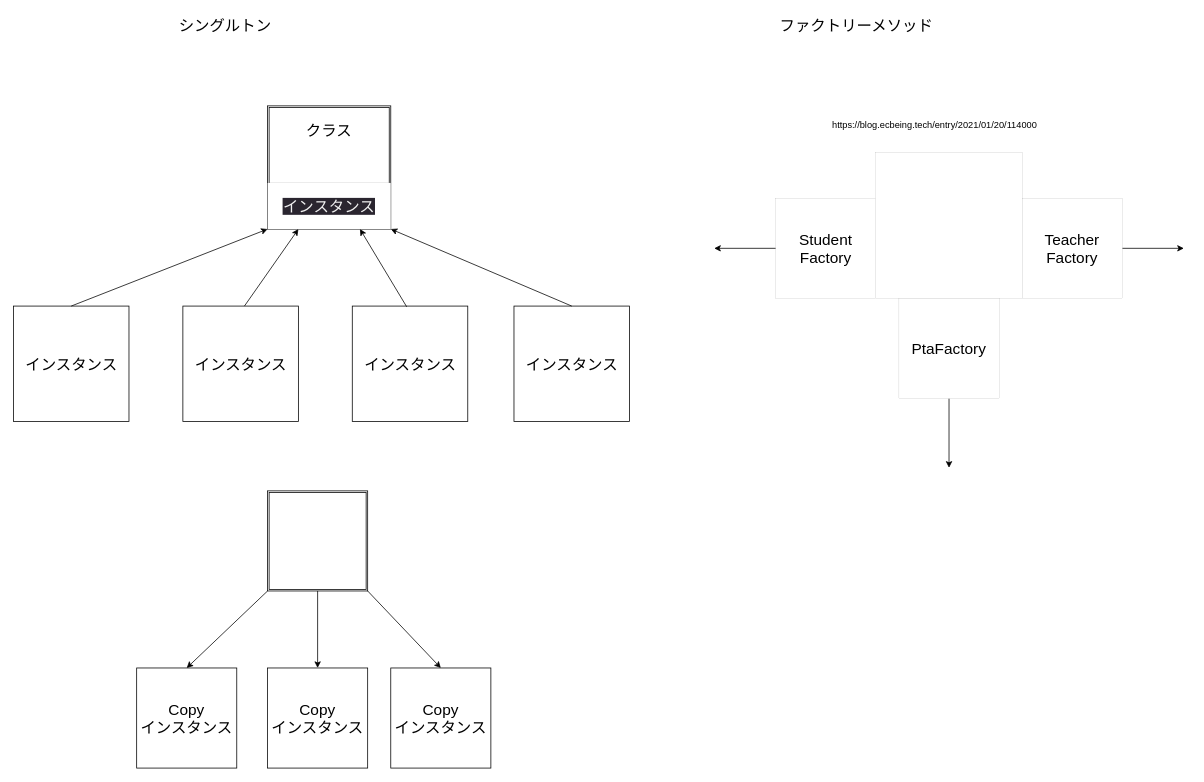
The diagram is 1204 pixels wide and 782 high, and some of its shapes have lost their labels. Each missing label, with the centre of its shape:
"Factory" belongs at [948,225].
"Original インスタンス" belongs at [317,540].
